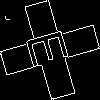E: (25, 25, 78, 69)
